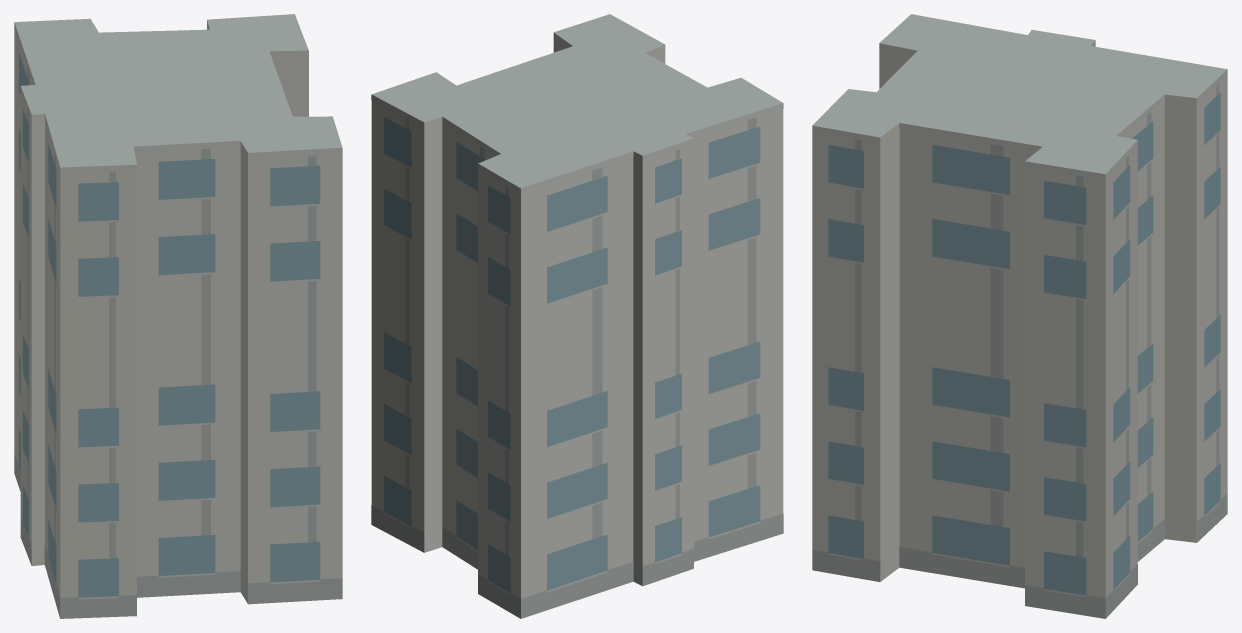
Rendered from survey-upis-32566641.glb.
The picture shows the model from 3 angles, left to right: view 1: azimuth 30°, elevation 25°; view 2: azimuth 150°, elevation 25°; view 3: azimuth 270°, elevation 25°; orthographic projection. The views are drawn at different scales.
Visible parts, largest first — view 1: survey-upis-32566641.tmp; view 2: survey-upis-32566641.tmp; view 3: survey-upis-32566641.tmp.
Boxes of the visible parts, box(x1,y1,x2,y2) form: survey-upis-32566641.tmp: box(14, 14, 342, 618); survey-upis-32566641.tmp: box(371, 14, 783, 618); survey-upis-32566641.tmp: box(812, 14, 1227, 618).
Size of the model in its own units: 13.77 by 17.8 by 15.08.
